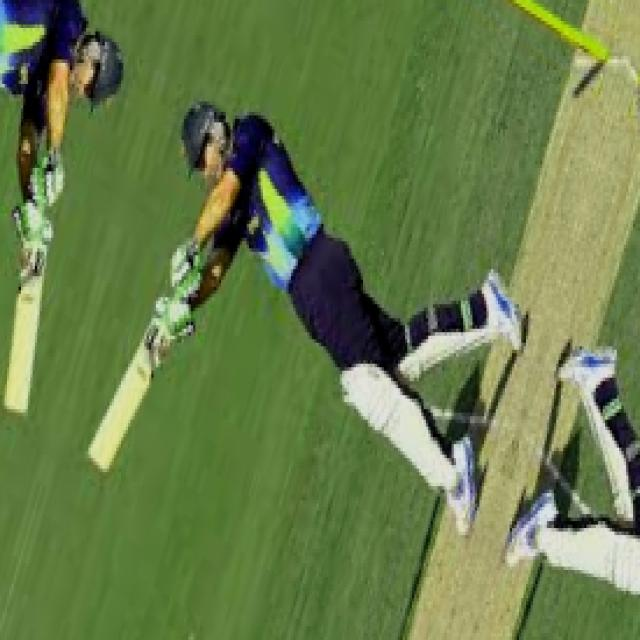toe: (82, 449, 114, 477)
